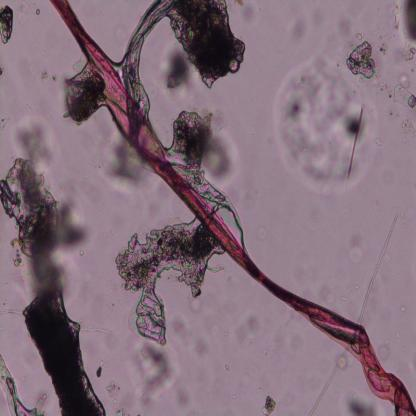Background material: (0, 123, 88, 290), (272, 52, 375, 194), (114, 218, 216, 334), (23, 288, 106, 414), (168, 0, 245, 88), (167, 106, 236, 185), (358, 212, 400, 324), (128, 338, 180, 403), (305, 349, 350, 415), (64, 68, 102, 123), (262, 313, 308, 353), (169, 314, 209, 358), (105, 141, 142, 188), (160, 48, 196, 95), (389, 1, 416, 63), (348, 31, 380, 82), (101, 372, 130, 410), (232, 312, 264, 343), (343, 390, 382, 414), (391, 80, 416, 112), (0, 5, 15, 47), (346, 231, 361, 264), (400, 116, 416, 144), (242, 5, 258, 26), (260, 397, 277, 414), (40, 69, 58, 83), (96, 358, 104, 378), (0, 117, 10, 130), (264, 343, 272, 357), (375, 136, 382, 146), (35, 10, 41, 17)
Cellulose filter fibre: (124, 1, 175, 102), (0, 351, 46, 414)
Cotton: (49, 0, 416, 415)
